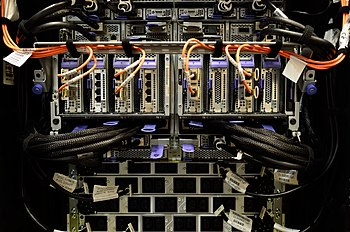ibm-server: (30, 39, 314, 126)
